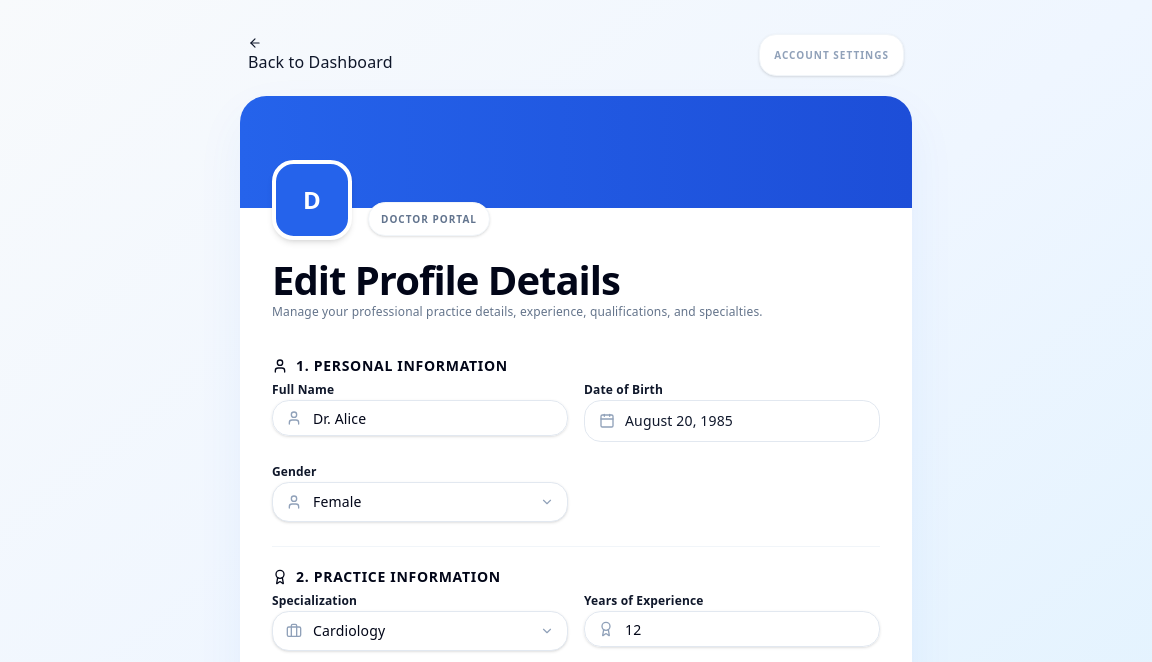
Scenario: Profile Page Component › should load and display doctor profile form and submit updates
The width and height of the screenshot is (1152, 662).
Check: the field labelled "Full Name" holds "Dr. Alice", box [272, 400, 568, 436]
Check: the dropdown labelled "Specialization" shows "Cardiology", box [272, 611, 568, 651]
# Make edits
Replace the text in the number field labelled "Years of Experience" with "13" at (732, 629), box [584, 611, 880, 647]
(page scrolled)
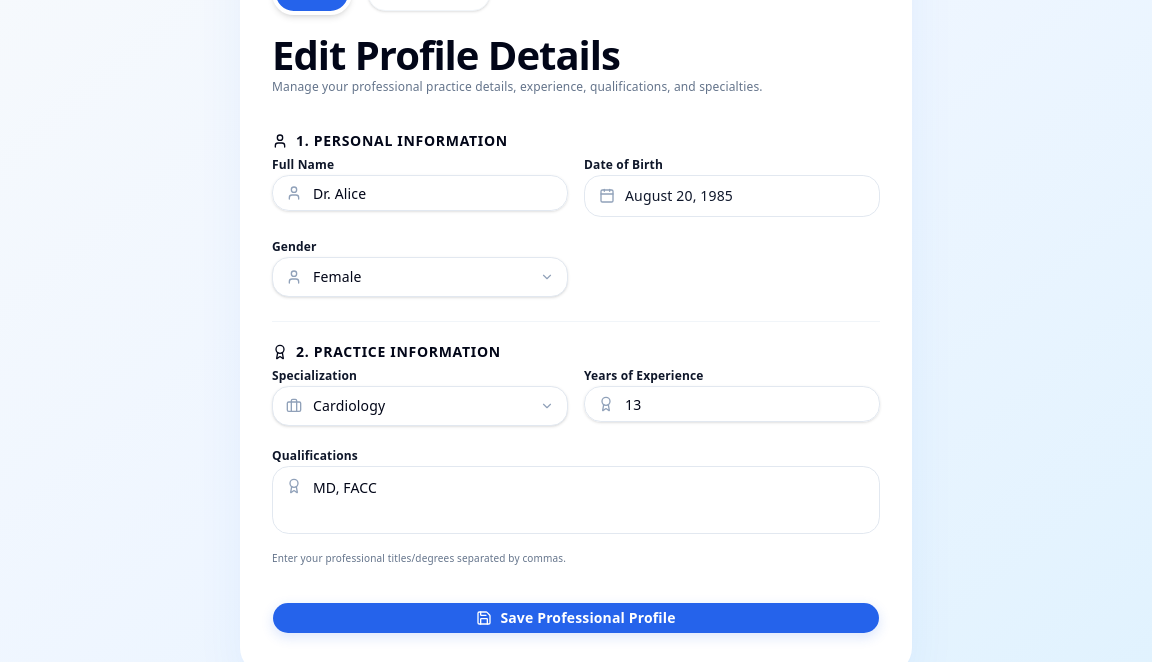
Replace the text in the text box labelled "Qualifications" with "MD, FACC, PhD" at (576, 500), box [272, 466, 880, 534]
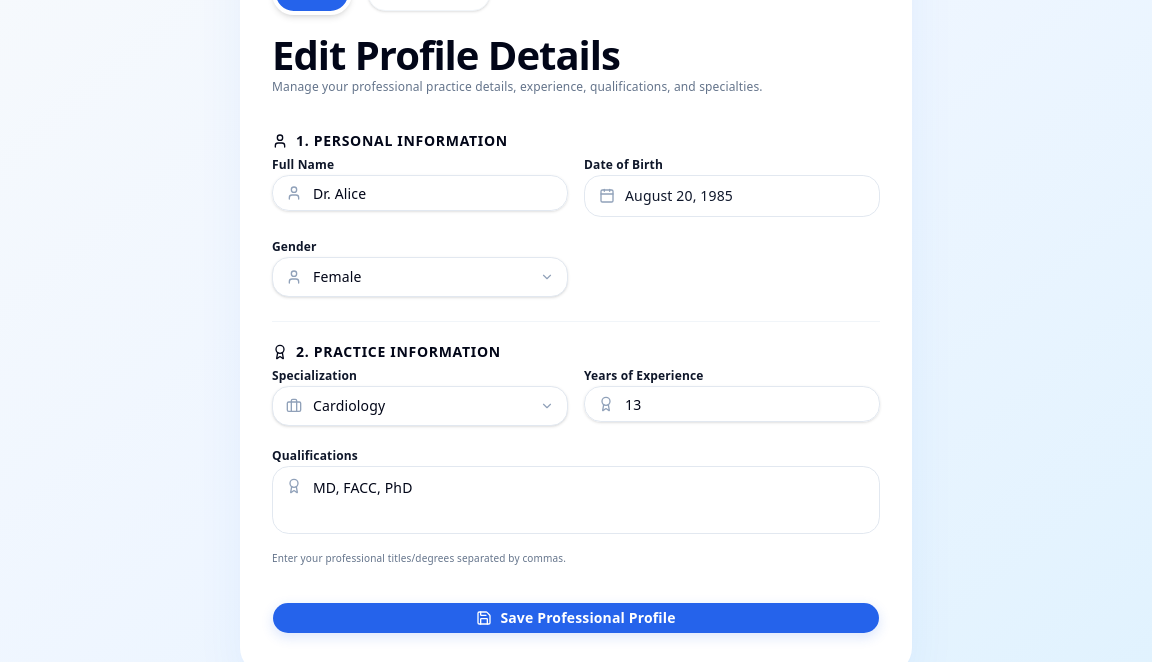
# Submit form
Click the button "Save Professional Profile" at (576, 618), box [272, 602, 880, 634]
(page scrolled)
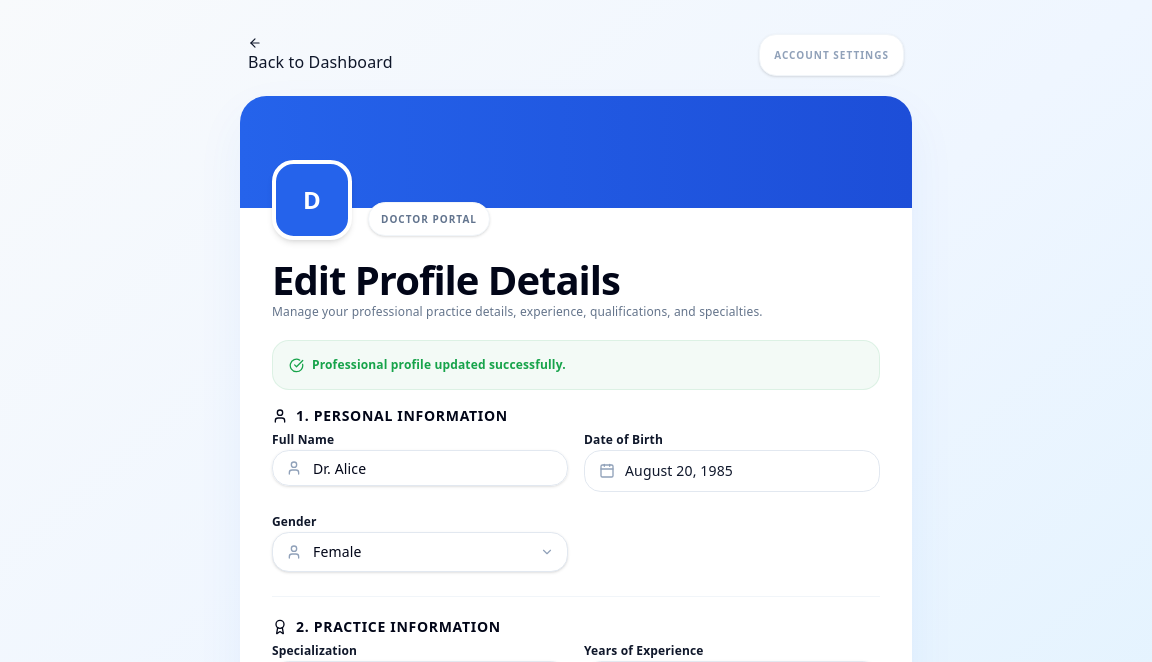
Check: the text "Professional profile updated successfully." is shown, box [312, 357, 566, 373]
